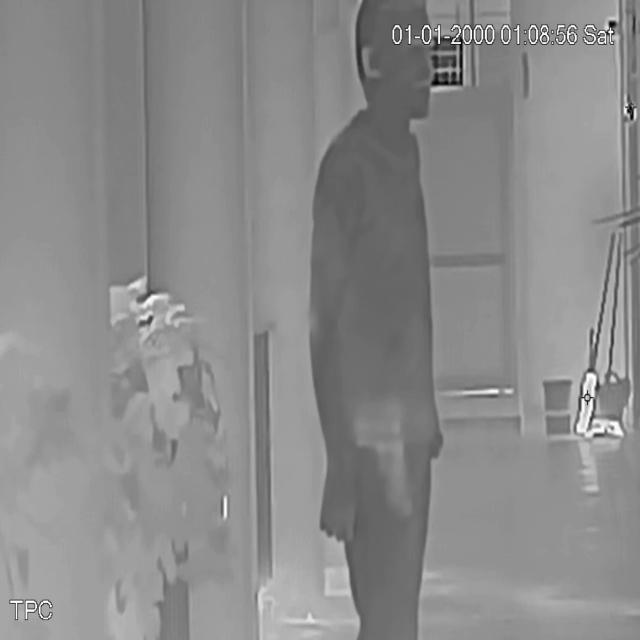Weapon: (330, 380, 426, 536)
